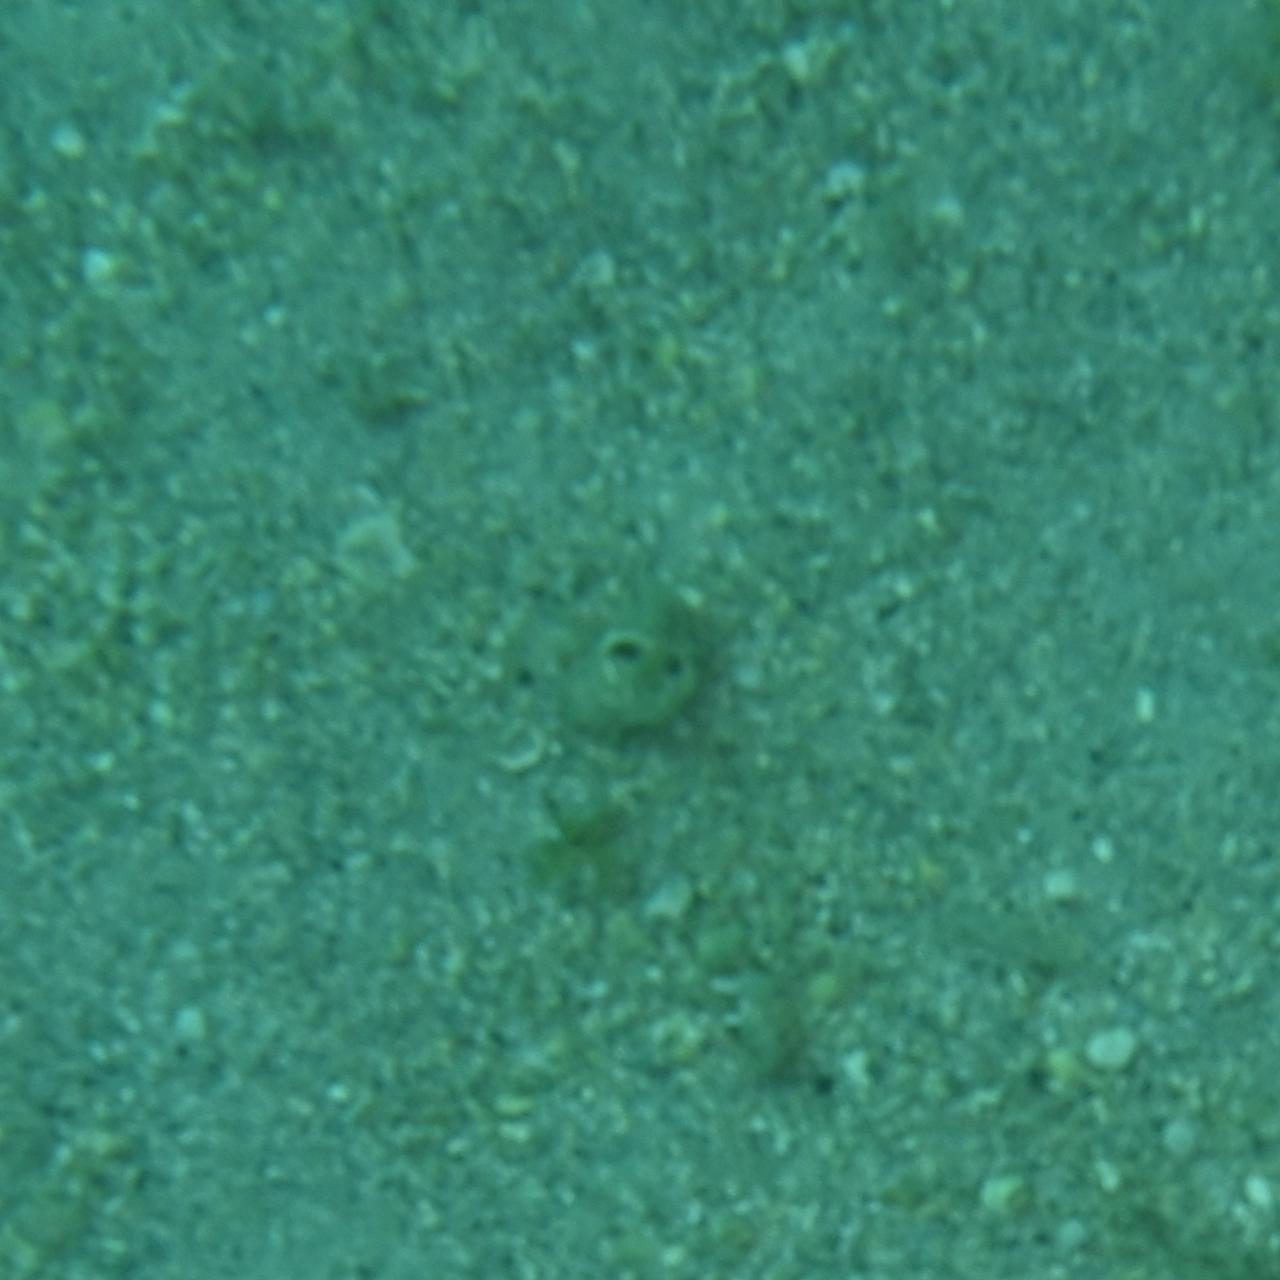Sarcotragus spinosulus: (545, 551, 735, 729)
